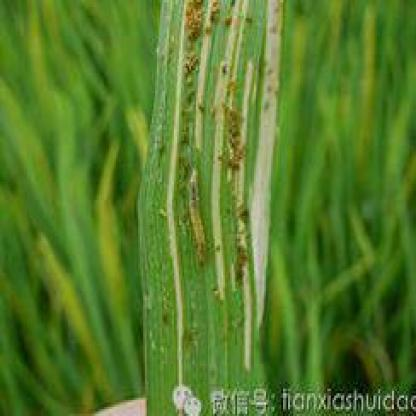leaf-folder: (177, 156, 216, 269)
